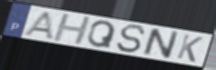A: (22, 11, 56, 41)
H: (51, 13, 93, 46)
K: (175, 33, 205, 64)
N: (142, 27, 182, 60)
Q: (86, 20, 118, 50)
S: (115, 23, 147, 55)
